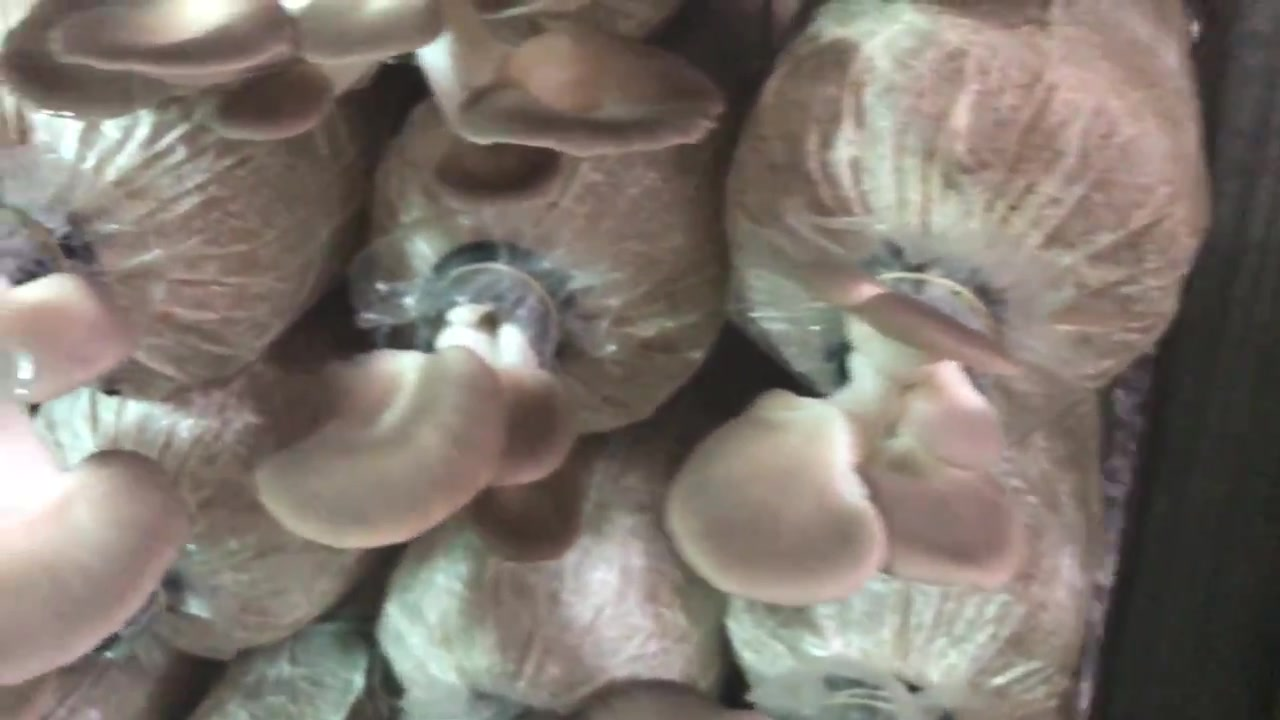nam: (663, 263, 1045, 609), (1, 5, 713, 170), (249, 246, 598, 578), (1, 232, 185, 682)
